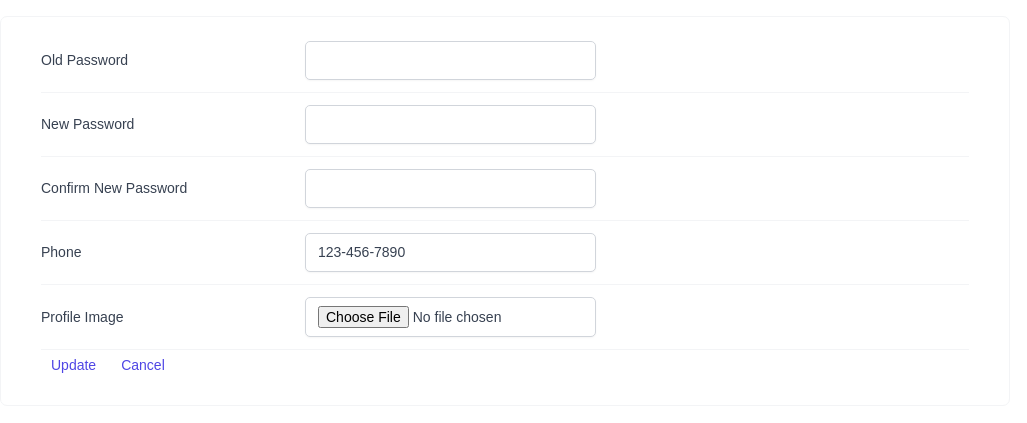
it: UpdateUserForm › validates password matching
In the password field labelled "Old Password": coordinates (450, 60) [305, 41, 596, 80], type "oldpass123"
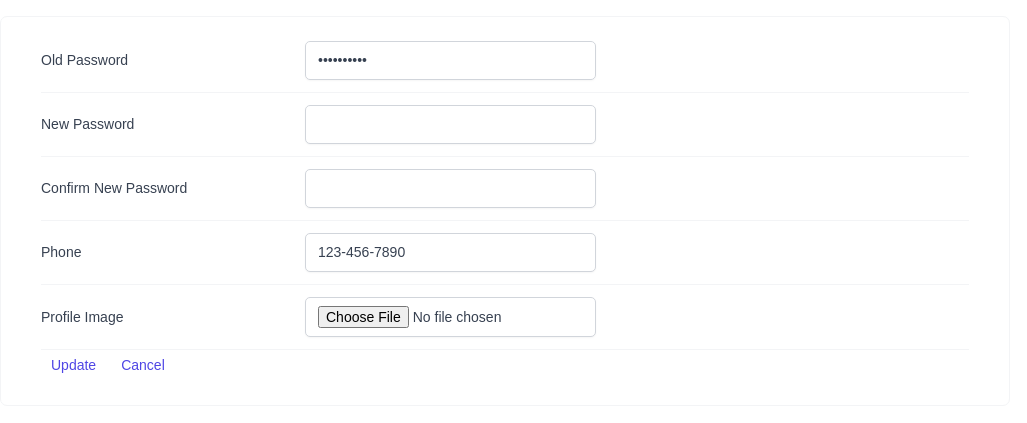
In the password field labelled "New Password": coordinates (450, 124) [305, 105, 596, 144], type "newpass123"
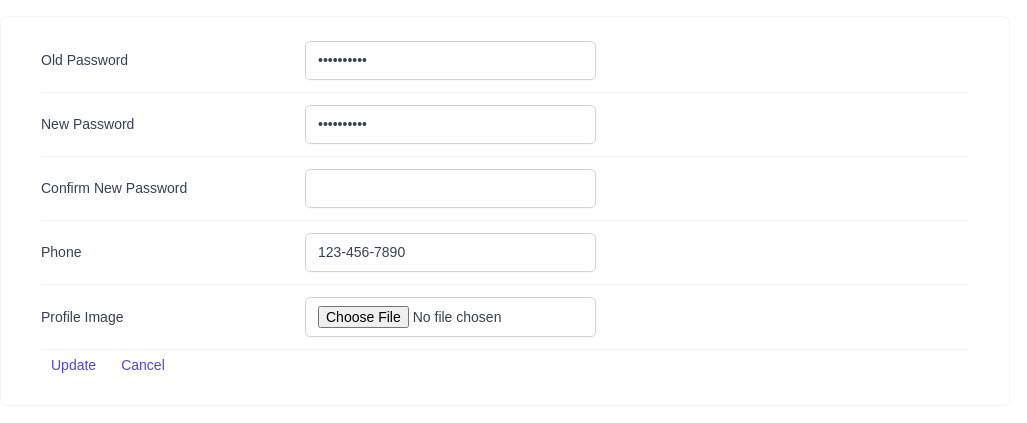
In the password field labelled "Confirm New Password": coordinates (450, 188) [305, 169, 596, 208], type "wrongpass"
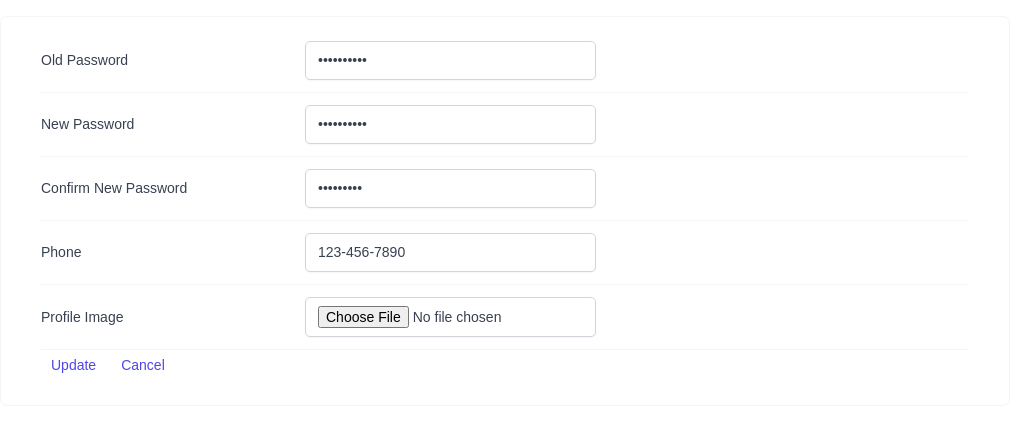
Click the button "Update": coordinates (74, 366) [41, 350, 106, 381]
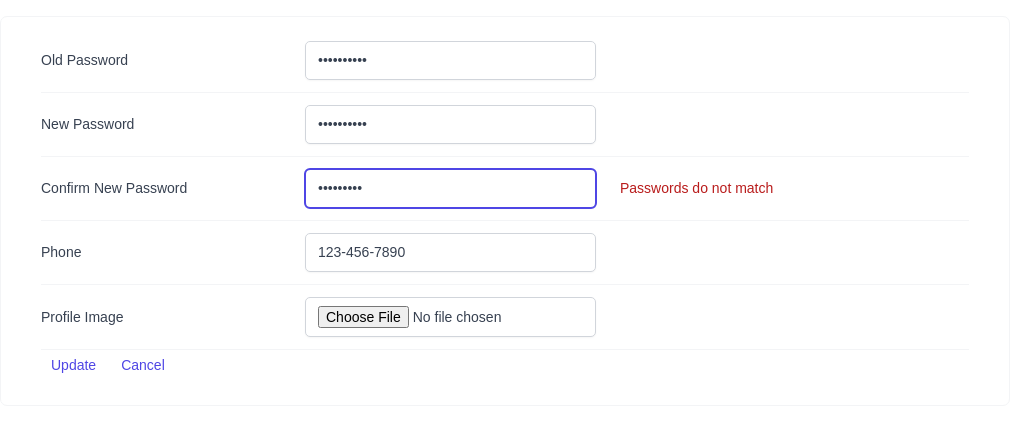
expect the text "Passwords do not match" is shown: met, box [620, 180, 773, 196]
